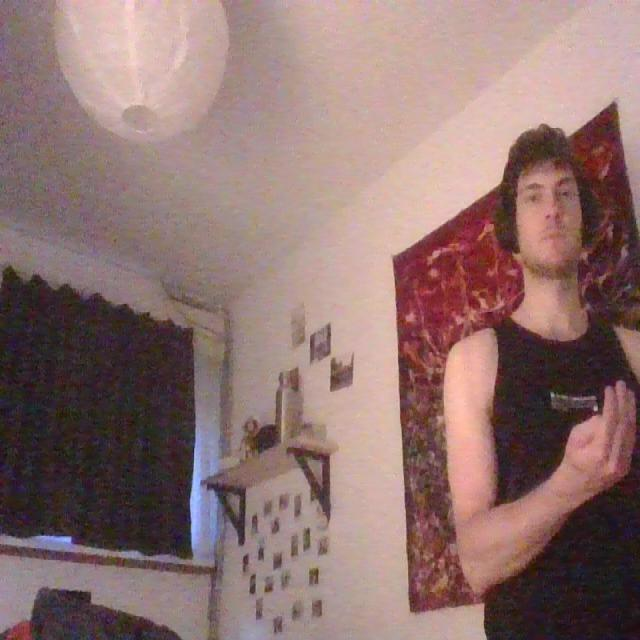forward: (558, 371, 639, 512)
